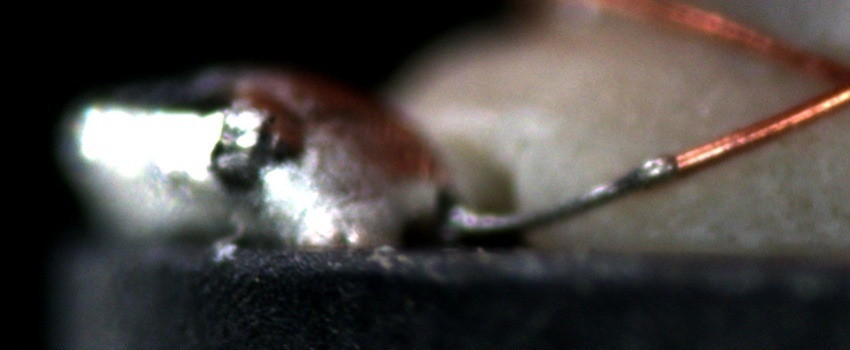TS: (447, 155, 678, 233)
TTCW: (440, 134, 734, 240)
